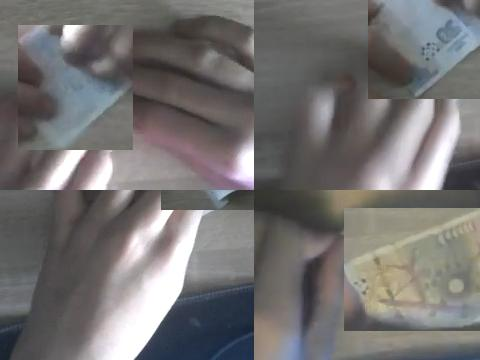10leva: (344, 210, 480, 331)
20leva: (18, 25, 133, 150), (368, 0, 480, 99)
